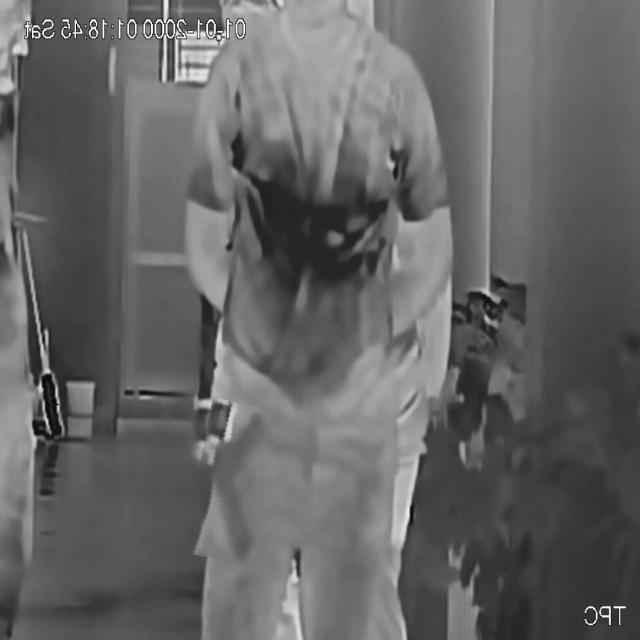Weapon: (190, 402, 282, 564)
